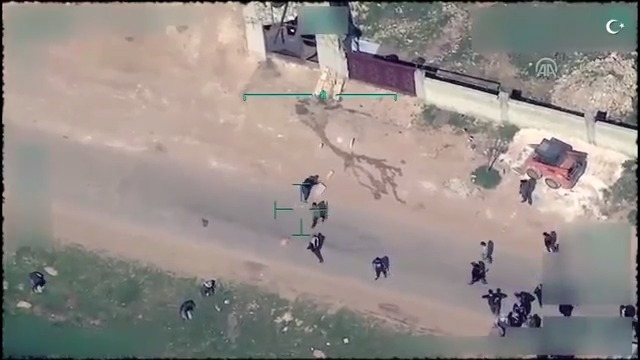insan: (306, 230, 327, 264), (464, 255, 487, 286), (369, 250, 389, 283), (538, 228, 562, 254), (517, 175, 534, 204)
